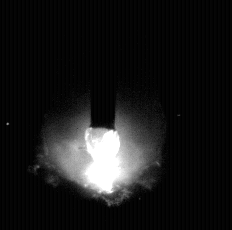arame: (91, 0, 117, 131)
poca: (41, 0, 166, 230)
